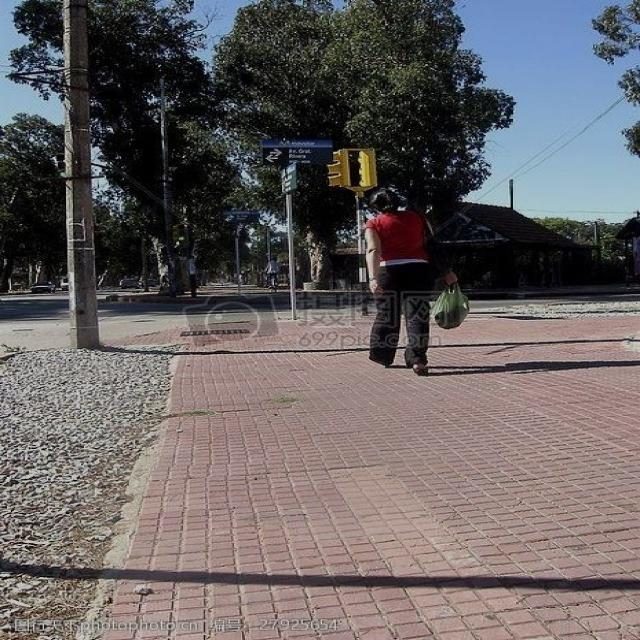non-fight: (354, 186, 459, 382)
